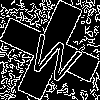W: (25, 25, 87, 86)
